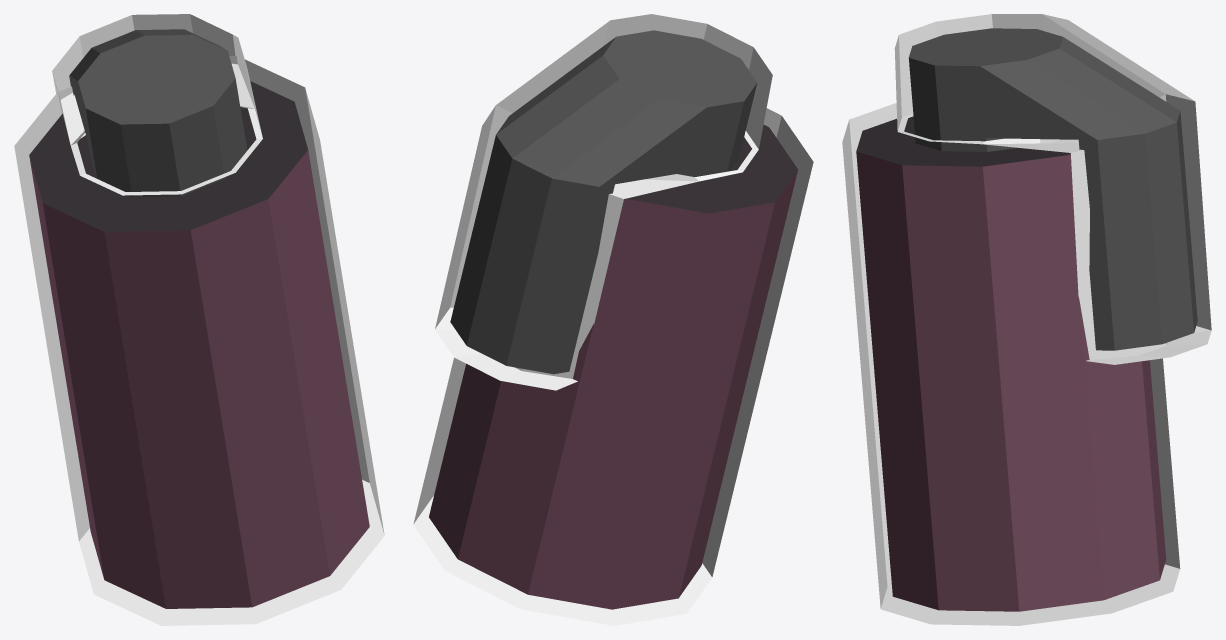
The model's file is GrenadeSmokeSeparate.gltf.
3 views of the same model, side by side, from view 1: azimuth 30°, elevation 25°; view 2: azimuth 150°, elevation 25°; view 3: azimuth 270°, elevation 25° (orthographic). The views are drawn at different scales.
Parts seen in each view (by area): view 1: GrenadeSmoke; view 2: GrenadeSmoke; view 3: GrenadeSmoke.
Boxes of the visible parts, x1,y1,x2,y2 form: GrenadeSmoke: [14, 14, 384, 625]; GrenadeSmoke: [413, 14, 813, 625]; GrenadeSmoke: [842, 14, 1211, 625].
Size of the model in its own units: 0.0452 by 0.0694 by 0.0418.
2 materials, 1 textured.
